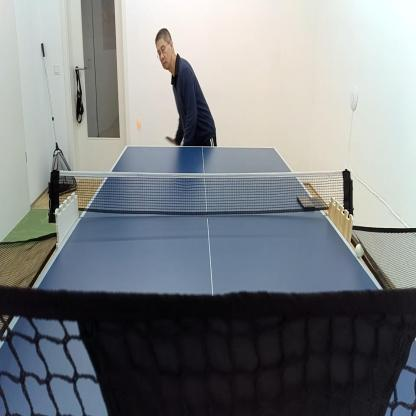Ball: (354, 242, 366, 259), (135, 118, 143, 132)
